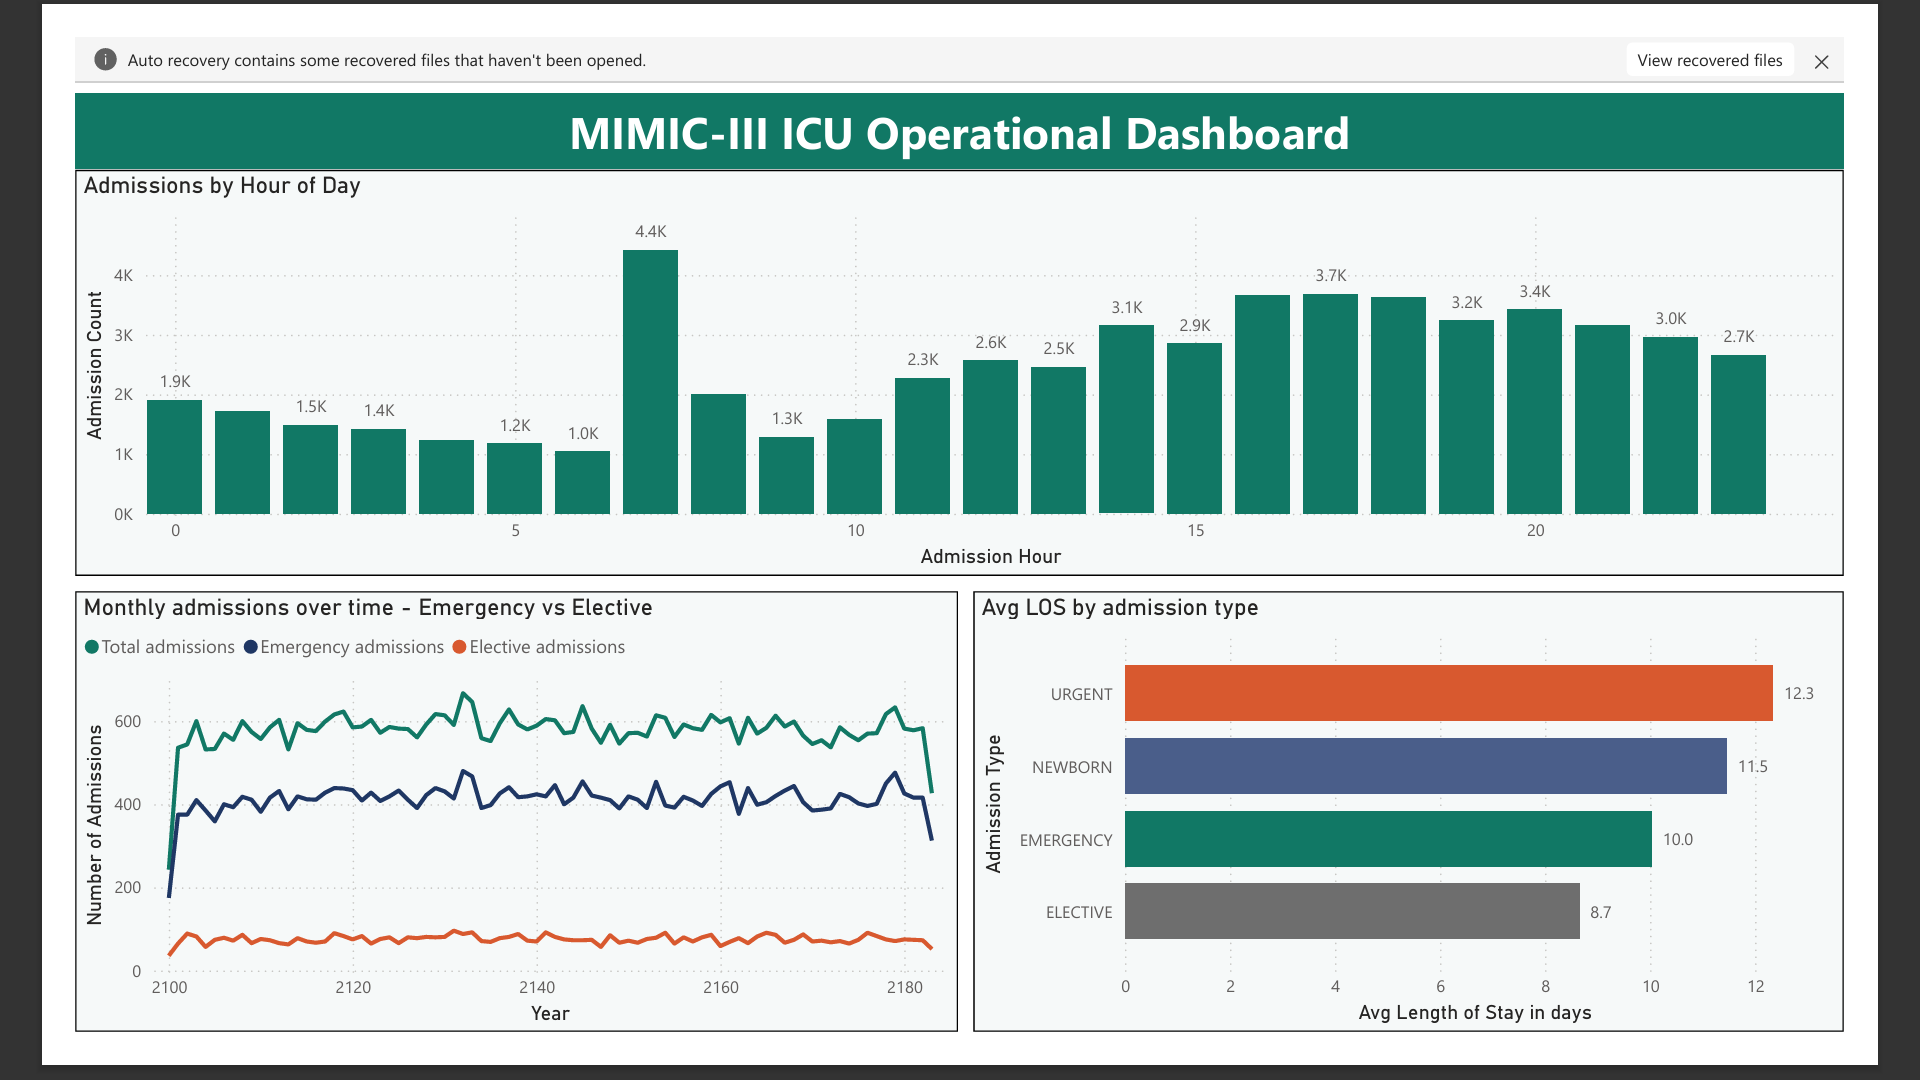

The dashboard page shown, as its layout file describes it:
{"tool":"powerbi","page":{"name":"Admission Trends","canvas":[1280,720],"ordinal":1},"visuals":[{"type":"textbox","box":[0,41.2,1280.3,54.9],"z":1000},{"type":"lineChart","title":"Monthly admissions over time - Emergency vs Elective","fields":{"Category":["Monthly_trends.yr_mo.Variation.Date Hierarchy.Year","Monthly_trends.yr_mo.Variation.Date Hierarchy.Quarter","Monthly_trends.yr_mo.Variation.Date Hierarchy.Month","Monthly_trends.yr_mo.Variation.Date Hierarchy.Day"],"Y":["Sum(Monthly_trends.total_admissions)","Sum(Monthly_trends.emergency_admissions)","Sum(Monthly_trends.elective_admissions)"]},"box":[0,400.7,639.5,319.7],"z":7000},{"type":"clusteredColumnChart","title":"Admissions by Hour of Day","fields":{"Y":["Sum(Admission_heatmap.admission_count)"],"Category":["Admission_heatmap.admission_hour"]},"box":[0,96.1,1280.3,293.7],"z":8000},{"type":"clusteredBarChart","title":"Avg LOS by admission type","fields":{"Y":["Sum(Admission_type.avg_los_days)"],"Category":["Admission_type.admission_type"]},"box":[650.4,400.7,629.8,319.7],"z":9000}]}

Visuals, with their boxes on the page's 1280x720 design canvas (x1, y1, x2, y2). These are canvas units, not pixel positions in the 1920x1080 screenshot, which may show the page scaled, cropped or inside an application window:
textbox: crop(0, 41, 1280, 96)
"Monthly admissions over time - Emergency vs Elective" lineChart: crop(0, 401, 640, 720)
"Admissions by Hour of Day" clusteredColumnChart: crop(0, 96, 1280, 390)
"Avg LOS by admission type" clusteredBarChart: crop(650, 401, 1280, 720)
